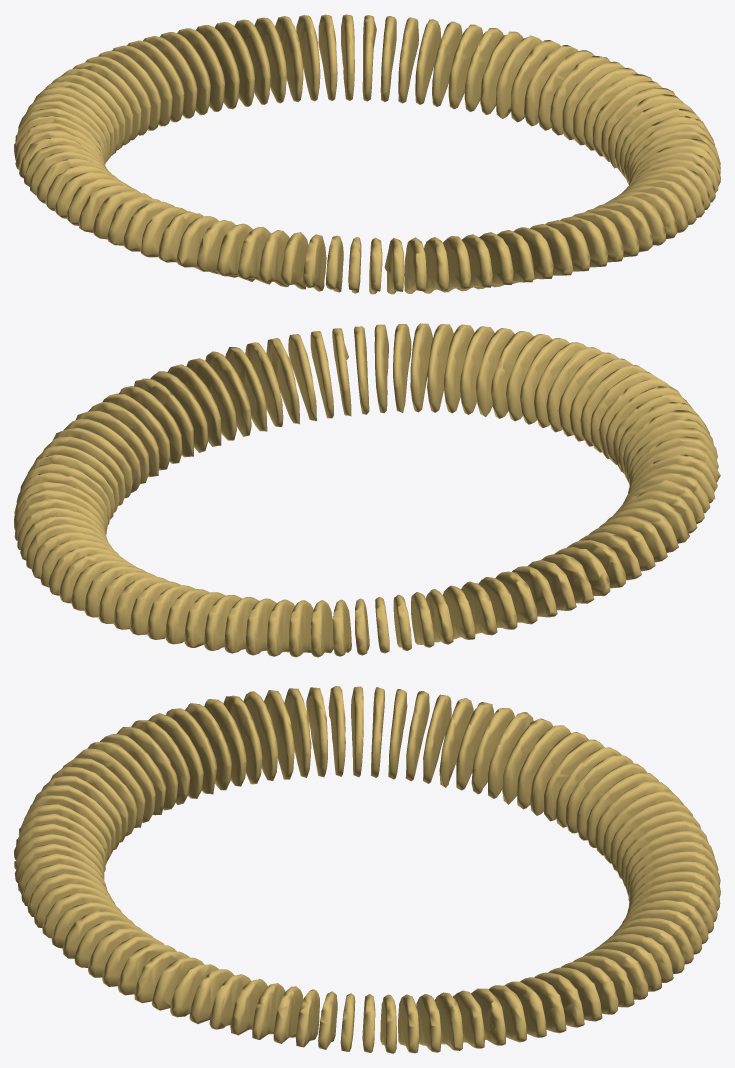
3 views of the same model, one above another, from view 1: azimuth 30°, elevation 25°; view 2: azimuth 150°, elevation 25°; view 3: azimuth 270°, elevation 25° (orthographic).
Parts seen in each view (by area): view 1: 右侧睫状小带; view 2: 右侧睫状小带; view 3: 右侧睫状小带.
Boxes of the visible parts, left/top/right/bottom form: 右侧睫状小带: left=14, top=14, right=720, bottom=294; 右侧睫状小带: left=14, top=323, right=720, bottom=657; 右侧睫状小带: left=14, top=686, right=720, bottom=1053.
Bounding box in the file's own units: 0.0219 × 0.00384 × 0.0219.
